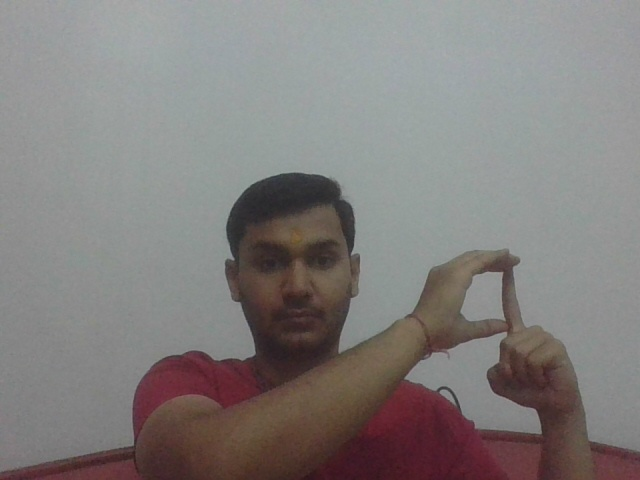D: (413, 248, 589, 410)
